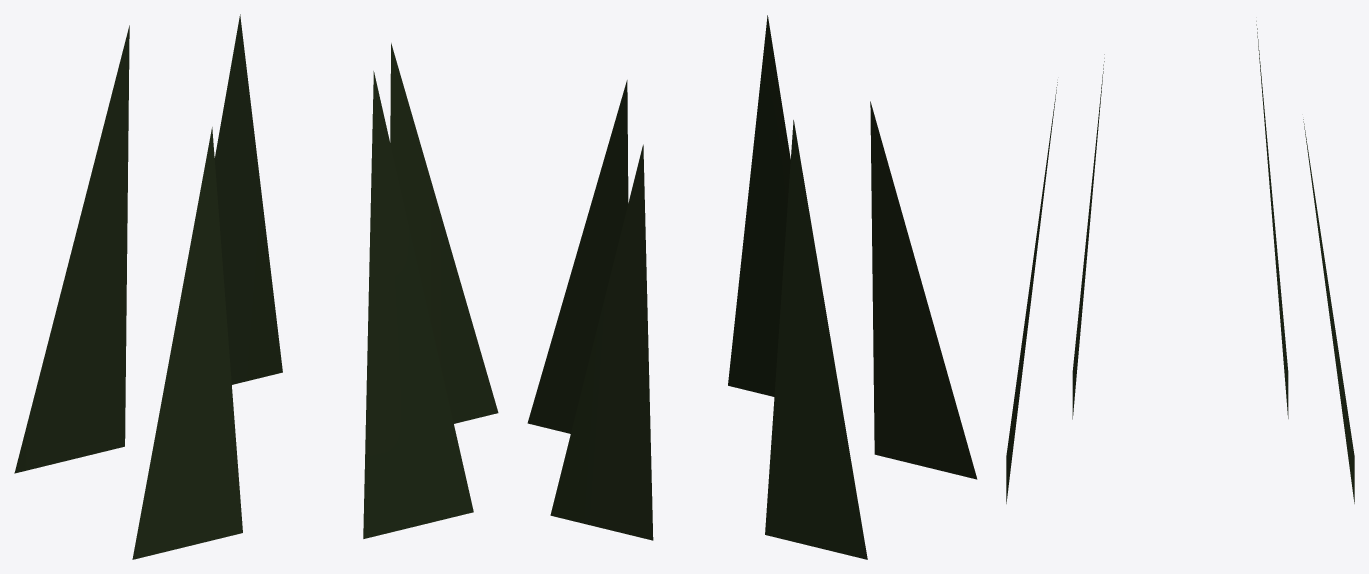
File: grass.glb
The picture shows the model from 3 angles, left to right: view 1: azimuth 30°, elevation 25°; view 2: azimuth 150°, elevation 25°; view 3: azimuth 270°, elevation 25°; orthographic projection. The views are drawn at different scales.
Visible parts, largest first — view 1: Sparse_Grass; view 2: Sparse_Grass; view 3: Sparse_Grass.
Boxes of the visible parts, <box> form: Sparse_Grass: <box>14,14,498,559</box>; Sparse_Grass: <box>527,15,977,559</box>; Sparse_Grass: <box>1006,21,1354,503</box>.
Bounding box in the file's own units: 0.269 × 0.265 × 0.2092.
1 material, 1 textured.
